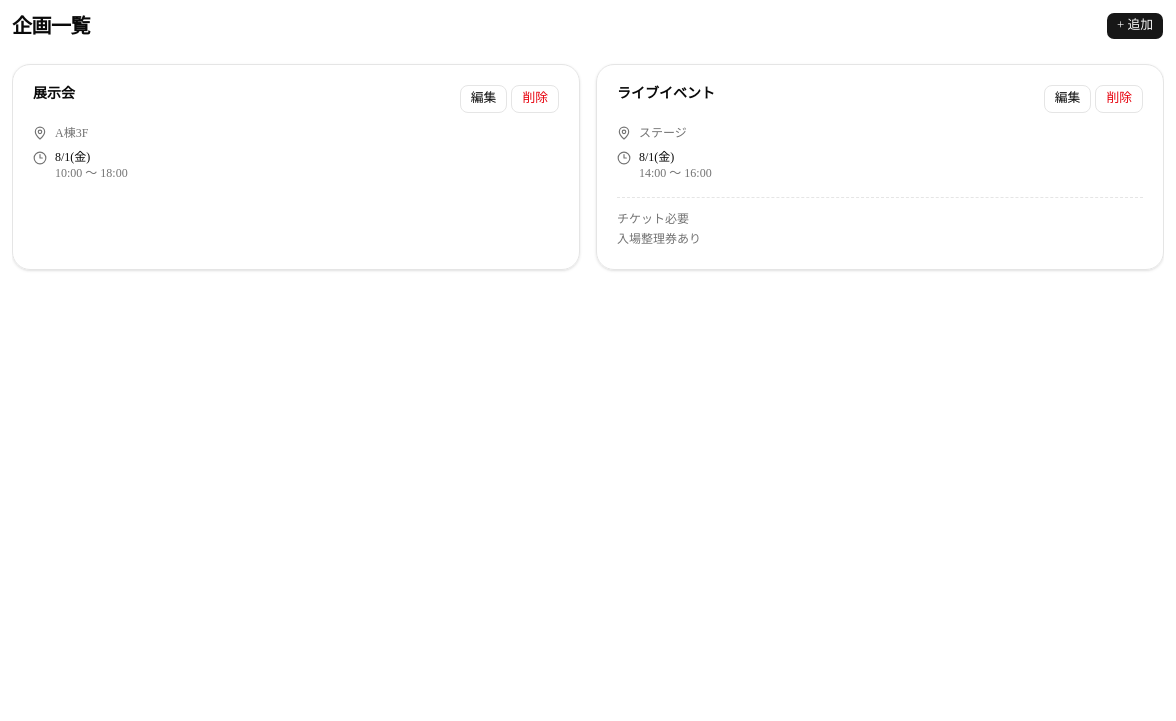
it: ProgramAdminPanel › + 追加 ボタンクリックでフォームを表示する
Click the button "+ 追加" at [1135, 26], box [1106, 12, 1164, 40]
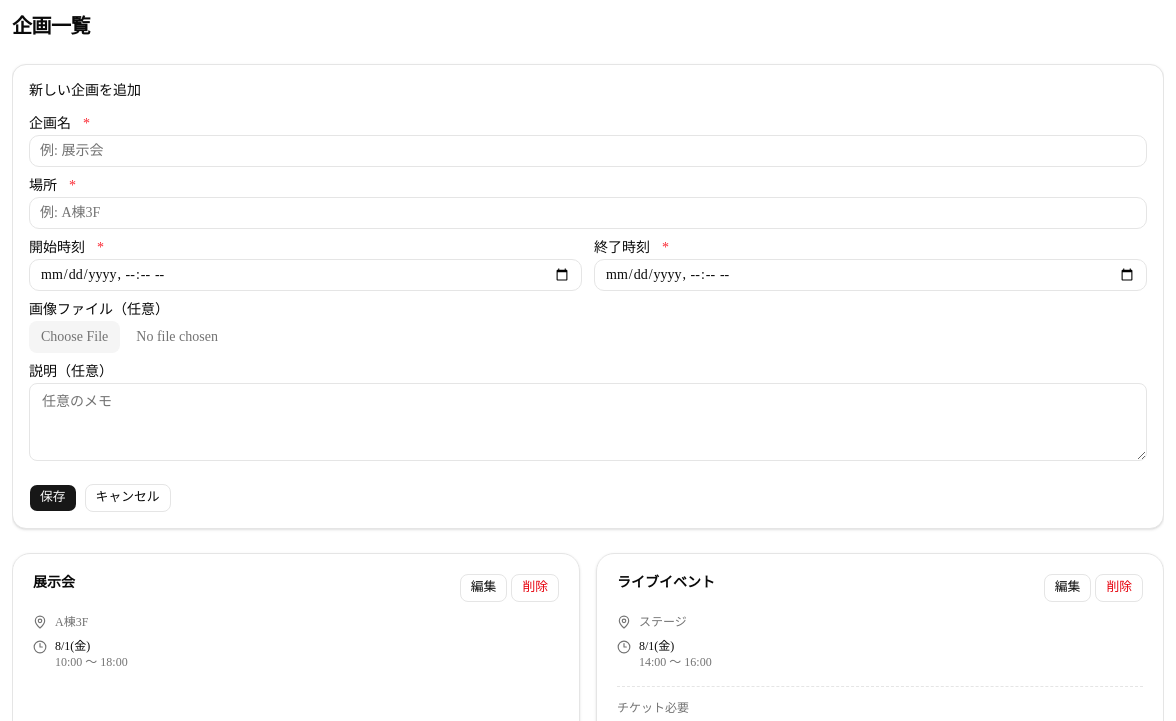
Now the heading "新しい企画を追加" is shown, box [29, 83, 141, 98]
Now the field labelled "企画名 *" is shown, box [29, 135, 1147, 167]
